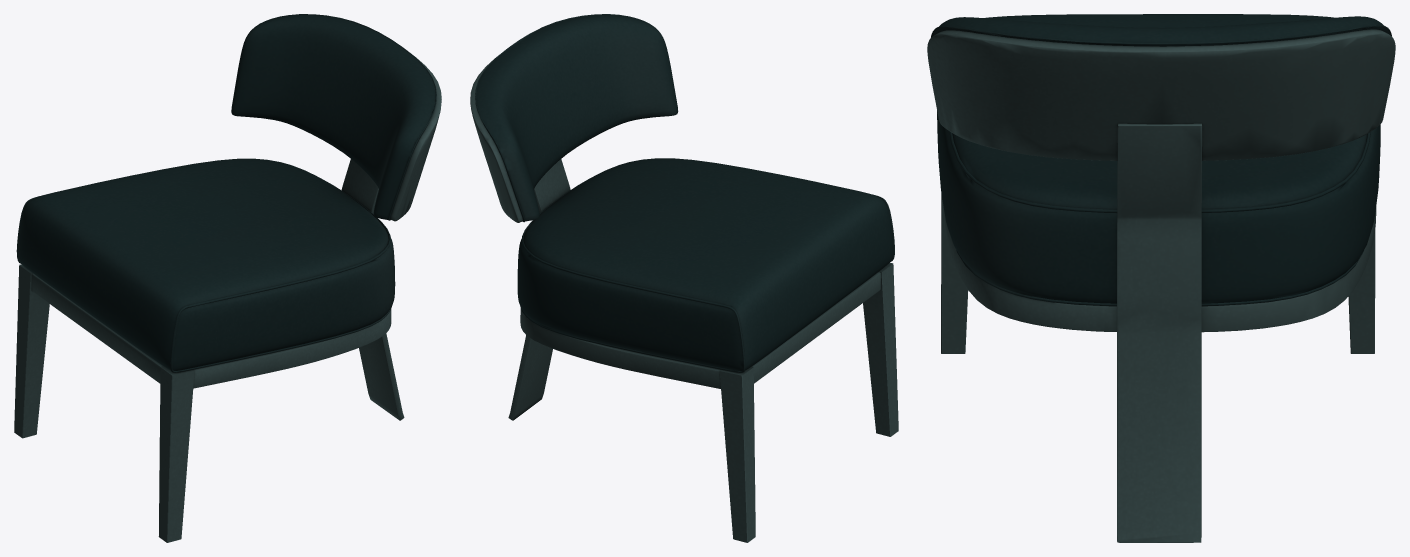
File: chair_armchair_bfa48a11-db54-523a-8691-d55308f34add.glb
3 views of the same model, side by side, from view 1: azimuth 30°, elevation 25°; view 2: azimuth 150°, elevation 25°; view 3: azimuth 270°, elevation 25° (orthographic). The views are drawn at different scales.
Visible parts, largest first — view 1: raw_model.obj; view 2: raw_model.obj; view 3: raw_model.obj.
Boxes of the visible parts, x1,y1,x2,y2 form: raw_model.obj: (14,14,441,542); raw_model.obj: (470,14,898,542); raw_model.obj: (927,14,1395,542).
Size of the model in its own units: 0.6547 by 0.7208 by 0.5859.
Materials: 1 (1 with a texture image).
